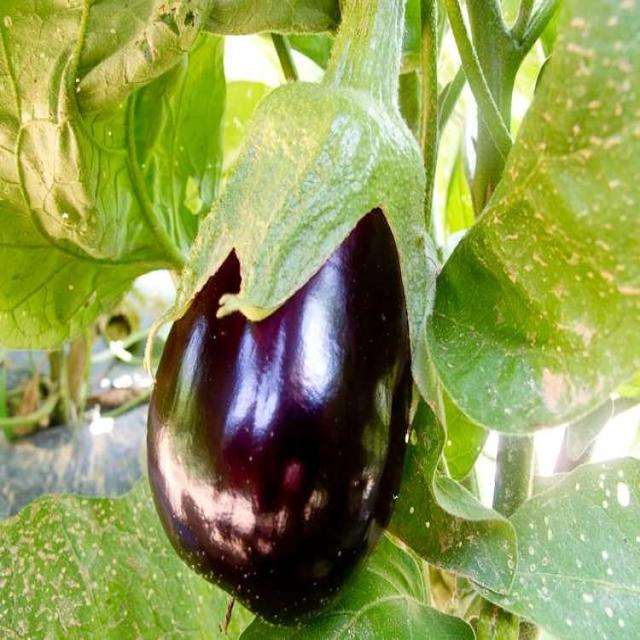Eggplant-r1Ob: (149, 2, 439, 619)
